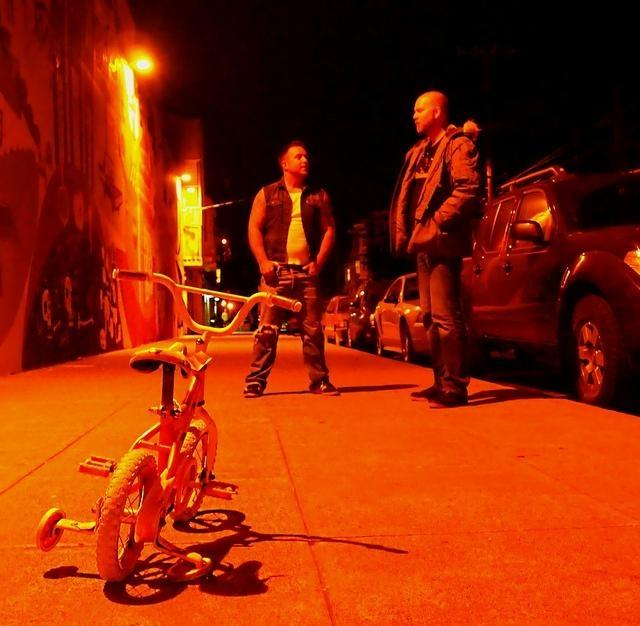bicycle: (100, 270, 300, 578)
car: (461, 166, 638, 409), (372, 270, 430, 364), (347, 280, 392, 351), (320, 294, 358, 344), (287, 312, 299, 334)
